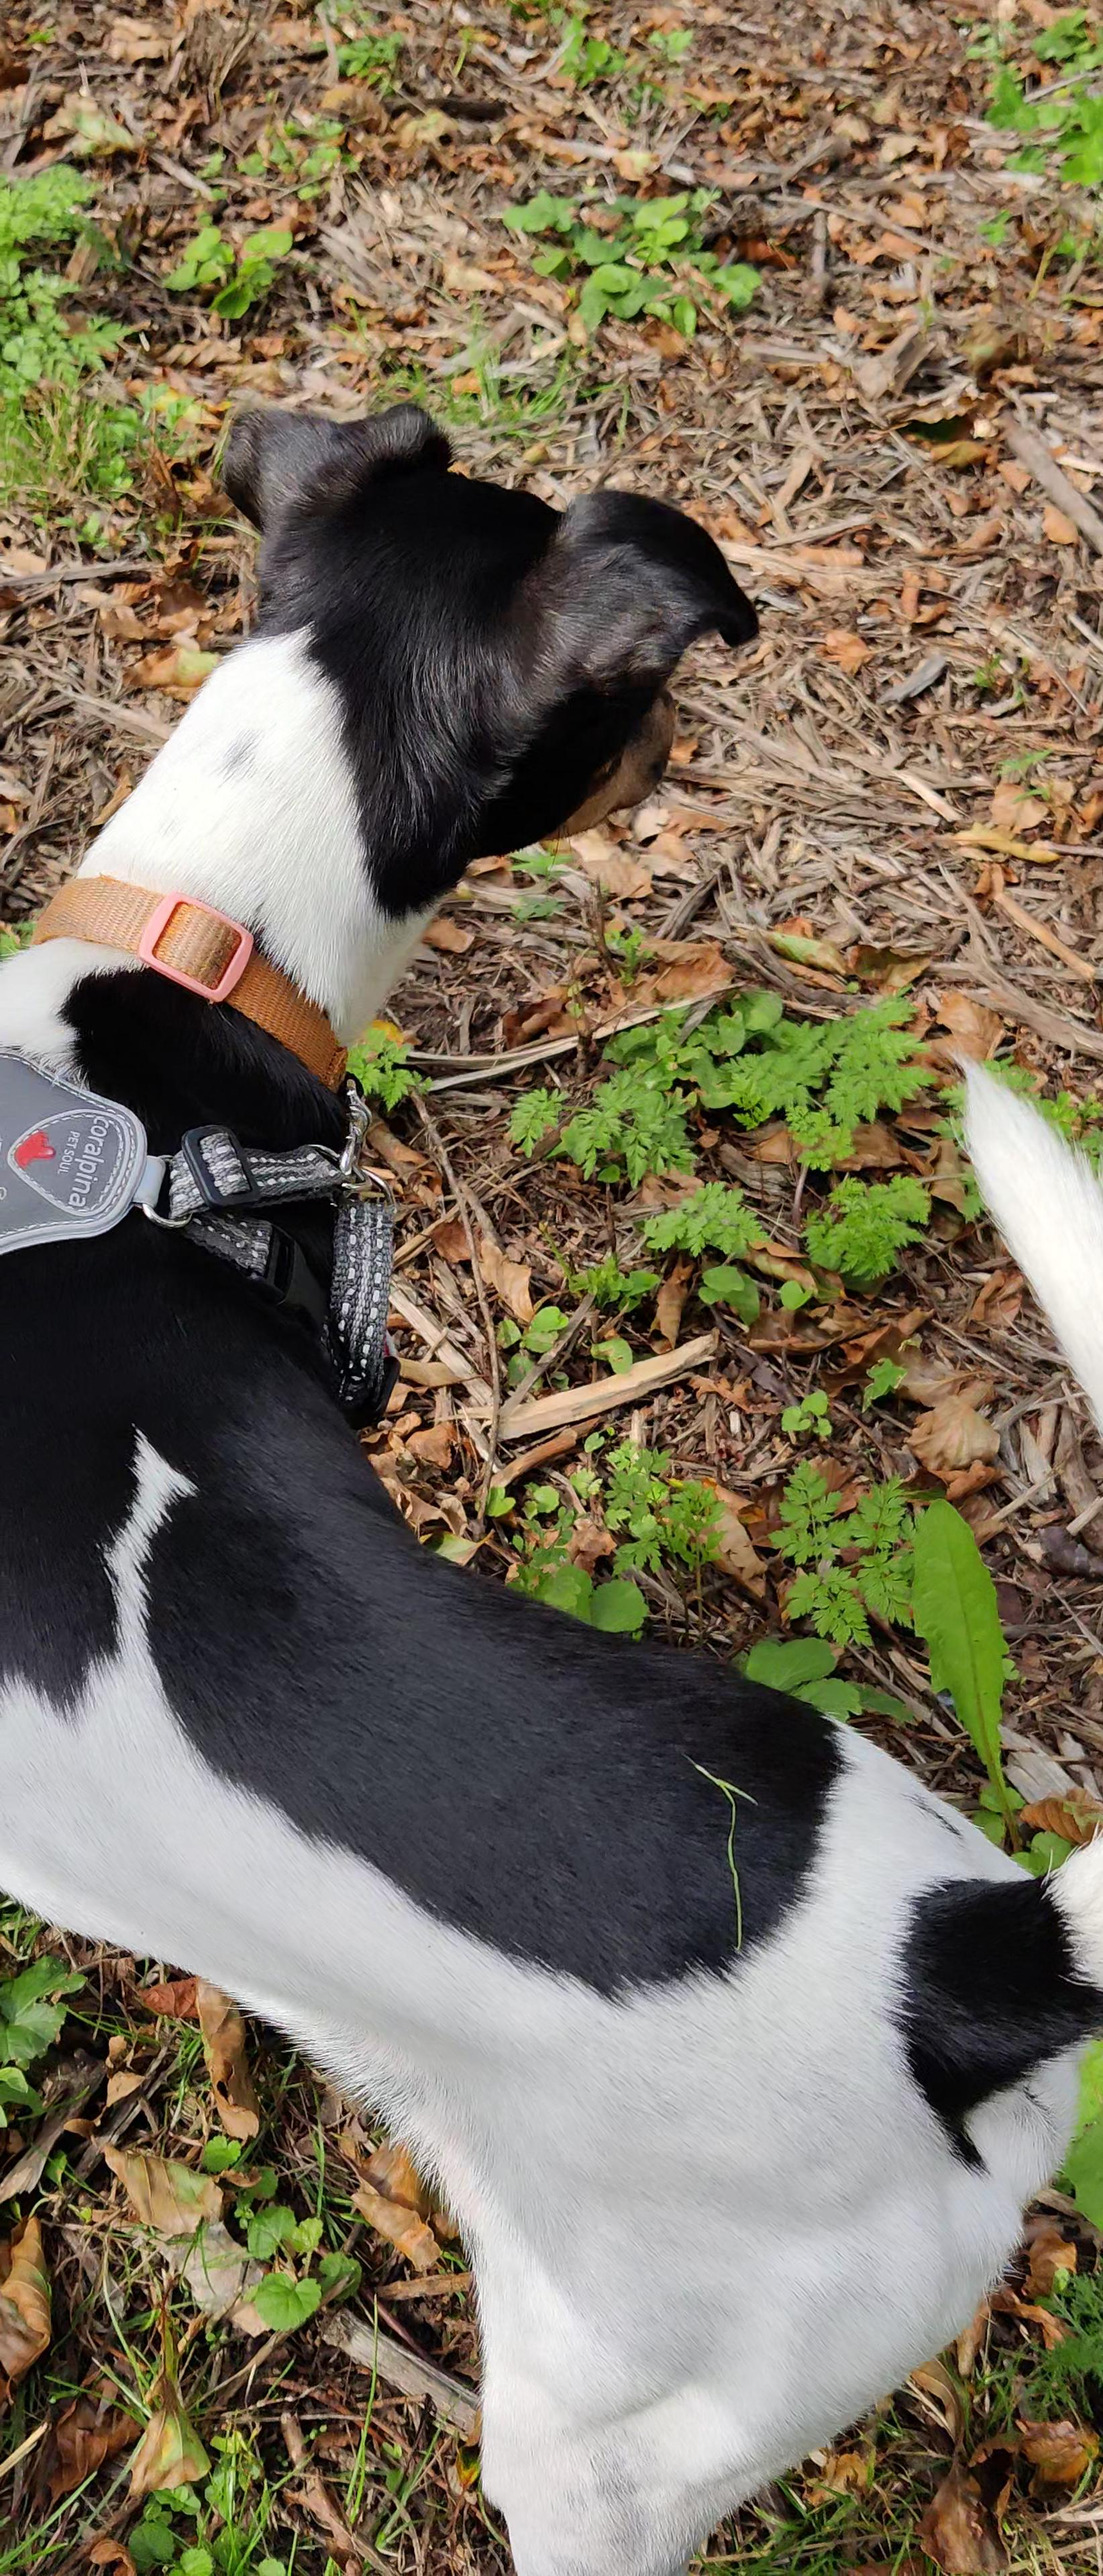Dog: (0, 393, 1103, 2576)
